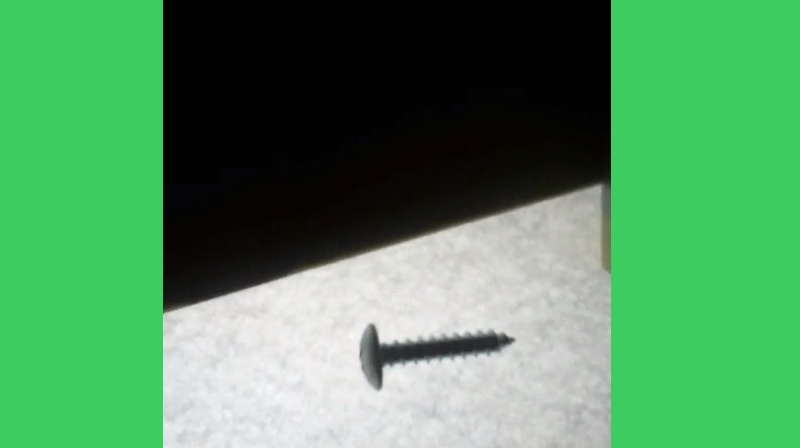S003: (356, 318, 519, 393)
